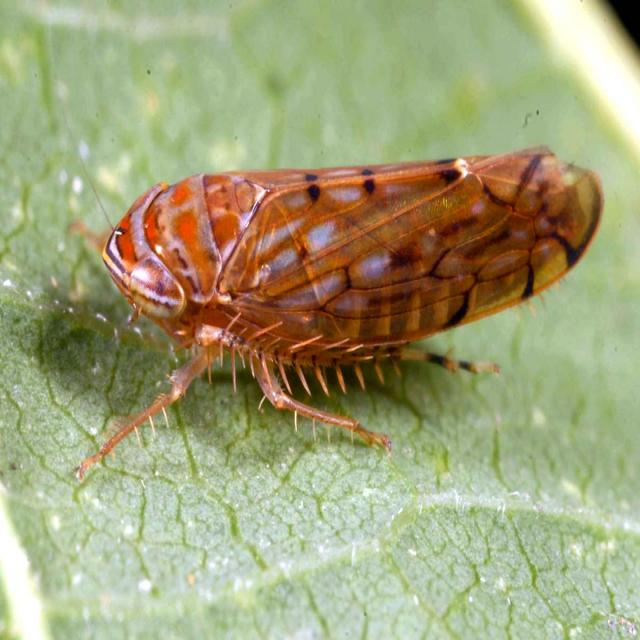Yechan: (71, 126, 626, 419)
